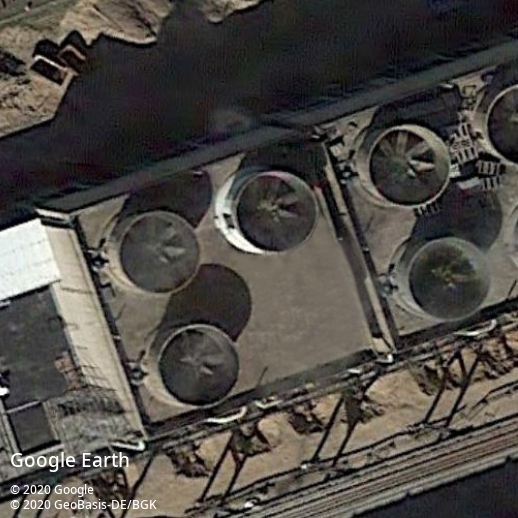Vent: (116, 210, 202, 297), (234, 169, 319, 255), (156, 323, 241, 409), (407, 237, 493, 322), (366, 123, 451, 208)
